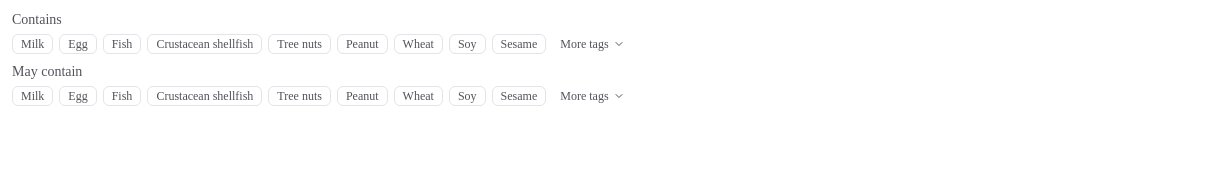
Test: allergen chips › keeps the rest of the tags behind More tags
Expected: the text "Mustard" is not shown
What coordinates should you click on to do the following:
click the 1st button "More tags"
I would click on:
 (592, 44)
Its box is [552,34,633,54].
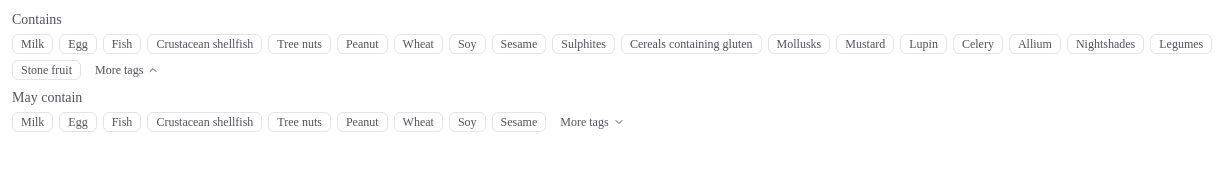
Expected: the button "Mustard" is shown, [836,34,894,54]
